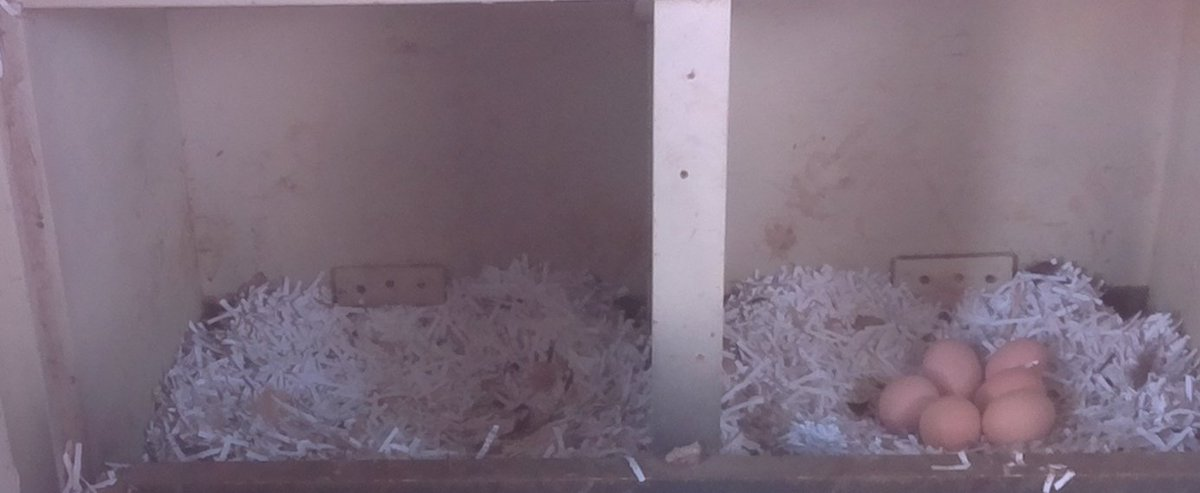egg: (980, 386, 1060, 449), (915, 391, 986, 455), (920, 337, 984, 401), (876, 372, 942, 432), (977, 336, 1059, 381), (971, 364, 1056, 402)
